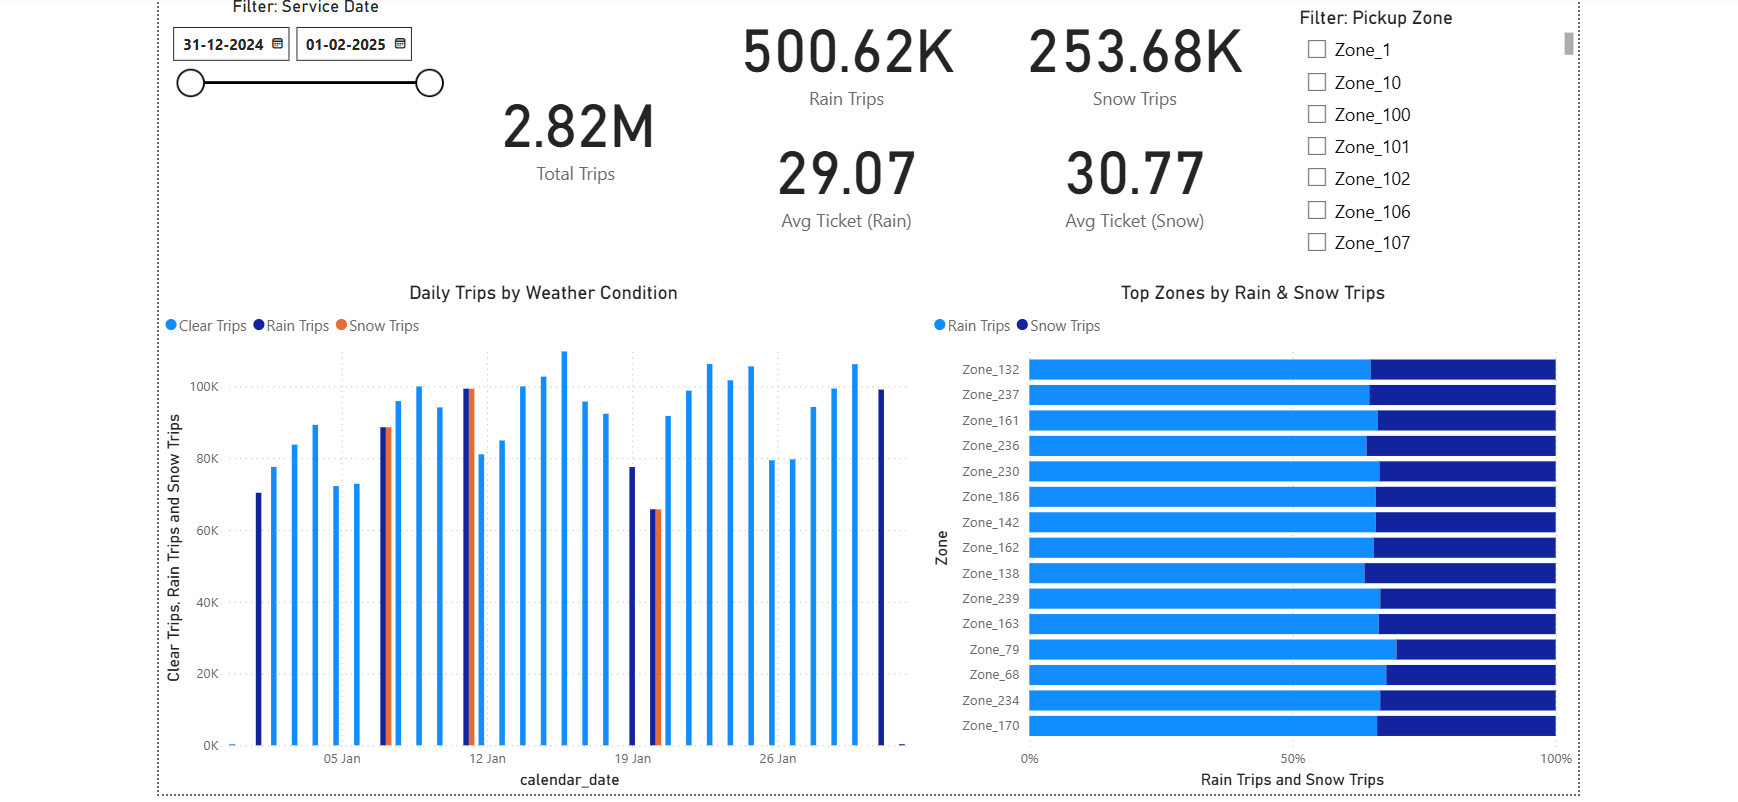

This screenshot's page, from the dashboard's own definition file:
{"tool":"powerbi","page":{"name":"Weather Impact","canvas":[1280,720],"ordinal":3},"visuals":[{"type":"slicer","title":"Filter: Service Date","fields":{"Values":["dim_date.calendar_date"]},"box":[0,0,264.9,107.2],"z":0},{"type":"slicer","title":"Filter: Pickup Zone","fields":{"Values":["dim_zone.zone_description"]},"box":[1023.1,8.8,257.2,232.2],"z":1000},{"type":"card","fields":{"Values":["gold_zone_day_metrics.Rain Trips"]},"box":[491.5,0,257.2,107.2],"z":2000},{"type":"card","fields":{"Values":["gold_zone_day_metrics.Total Trips (Day)"]},"box":[264.9,0,226.6,241.9],"z":3000},{"type":"card","fields":{"Values":["gold_zone_day_metrics.Snow Trips"]},"box":[748.7,0,263.3,107.2],"z":4000},{"type":"clusteredColumnChart","title":"Daily Trips by Weather Condition","fields":{"Y":["gold_zone_day_metrics.Clear Trips","gold_zone_day_metrics.Rain Trips","gold_zone_day_metrics.Snow Trips"],"Category":["dim_date.calendar_date"]},"box":[0,257.2,693.6,462.4],"z":5000},{"type":"card","fields":{"Values":["gold_zone_day_metrics.Avg Ticket (Rain)"]},"box":[491.5,107.2,257.2,113.3],"z":6000},{"type":"card","fields":{"Values":["gold_zone_day_metrics.Avg Ticket (Snow)"]},"box":[748.7,107.2,263.3,113.3],"z":7000},{"type":"hundredPercentStackedBarChart","title":"Top Zones by Rain & Snow Trips","fields":{"Category":["dim_zone.zone_description"],"Y":["gold_zone_day_metrics.Rain Trips","gold_zone_day_metrics.Snow Trips"]},"box":[693.6,257.2,586.4,462.4],"z":8000}]}

Visuals, with their boxes on the page's 1280x720 design canvas (x1, y1, x2, y2). These are canvas units, not pixel positions in the 1738x802 screenshot, which may show the page scaled, cropped or inside an application window:
"Filter: Service Date" slicer: (left=0, top=0, right=265, bottom=107)
"Filter: Pickup Zone" slicer: (left=1023, top=9, right=1280, bottom=241)
card - gold_zone_day_metrics.Rain Trips: (left=492, top=0, right=749, bottom=107)
card - gold_zone_day_metrics.Total Trips (Day): (left=265, top=0, right=492, bottom=242)
card - gold_zone_day_metrics.Snow Trips: (left=749, top=0, right=1012, bottom=107)
"Daily Trips by Weather Condition" clusteredColumnChart: (left=0, top=257, right=694, bottom=720)
card - gold_zone_day_metrics.Avg Ticket (Rain): (left=492, top=107, right=749, bottom=220)
card - gold_zone_day_metrics.Avg Ticket (Snow): (left=749, top=107, right=1012, bottom=220)
"Top Zones by Rain & Snow Trips" hundredPercentStackedBarChart: (left=694, top=257, right=1280, bottom=720)
